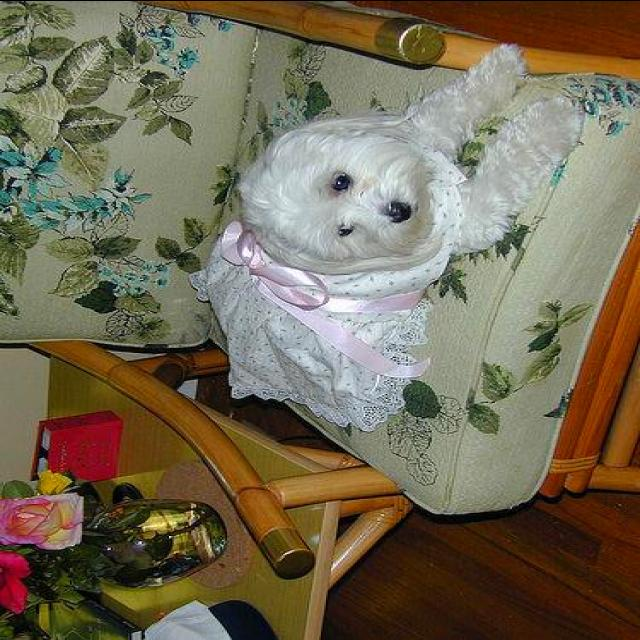maltese_dog: (188, 44, 588, 430)
